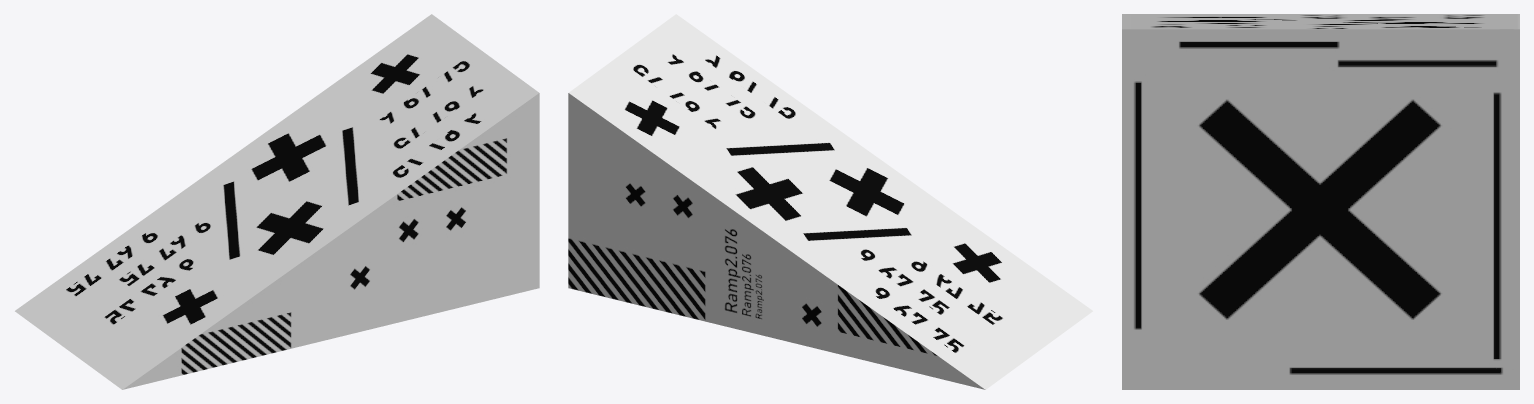
File: Ramp2.fbx
3 views of the same model, side by side, from view 1: azimuth 30°, elevation 25°; view 2: azimuth 150°, elevation 25°; view 3: azimuth 270°, elevation 25° (orthographic). The views are drawn at different scales.
Visible parts, largest first — view 1: Ramp2; view 2: Ramp2; view 3: Ramp2.
Boxes of the visible parts, x1,y1,x2,y2 form: Ramp2: (15,14,539,389); Ramp2: (568,14,1092,389); Ramp2: (1122,14,1519,389).
Size of the model in its own units: 103 by 46.18 by 46.18.
